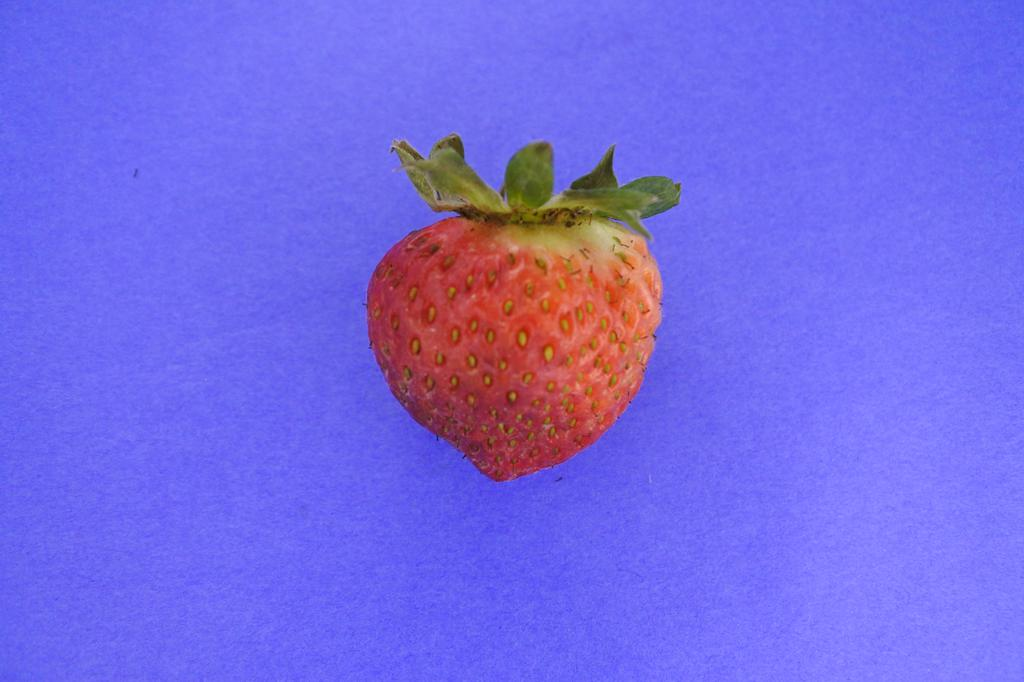red strawberry: (362, 132, 685, 484)
